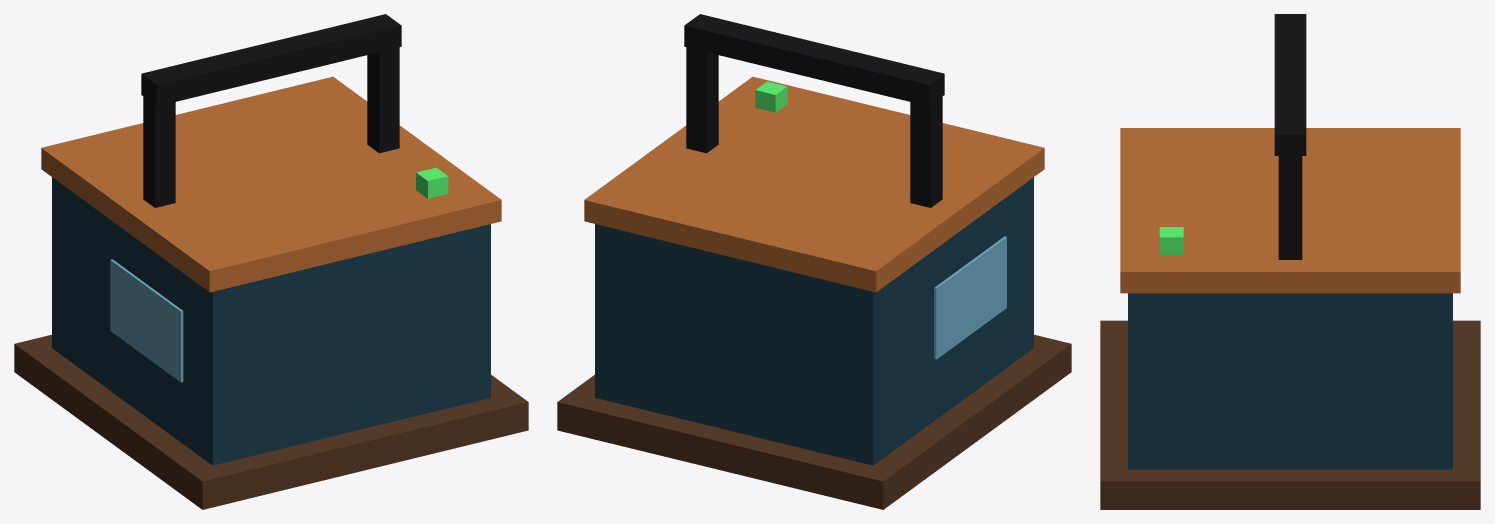
The model's file is assembler_1.obj.
3 renders of one model, left to right at view 1: azimuth 30°, elevation 25°; view 2: azimuth 150°, elevation 25°; view 3: azimuth 270°, elevation 25°, orthographic.
Parts seen in each view (by area): view 1: Body, Lamp; view 2: Body, Lamp; view 3: Body, Lamp.
Part boxes in pixels (x1,y1,x2,y2): Body: [14, 14, 528, 509]; Lamp: [416, 167, 448, 198]; Body: [557, 14, 1071, 509]; Lamp: [755, 81, 787, 112]; Body: [1100, 14, 1480, 509]; Lamp: [1159, 227, 1183, 254].
Size of the model in its own units: 0.96 by 0.99 by 0.96.
